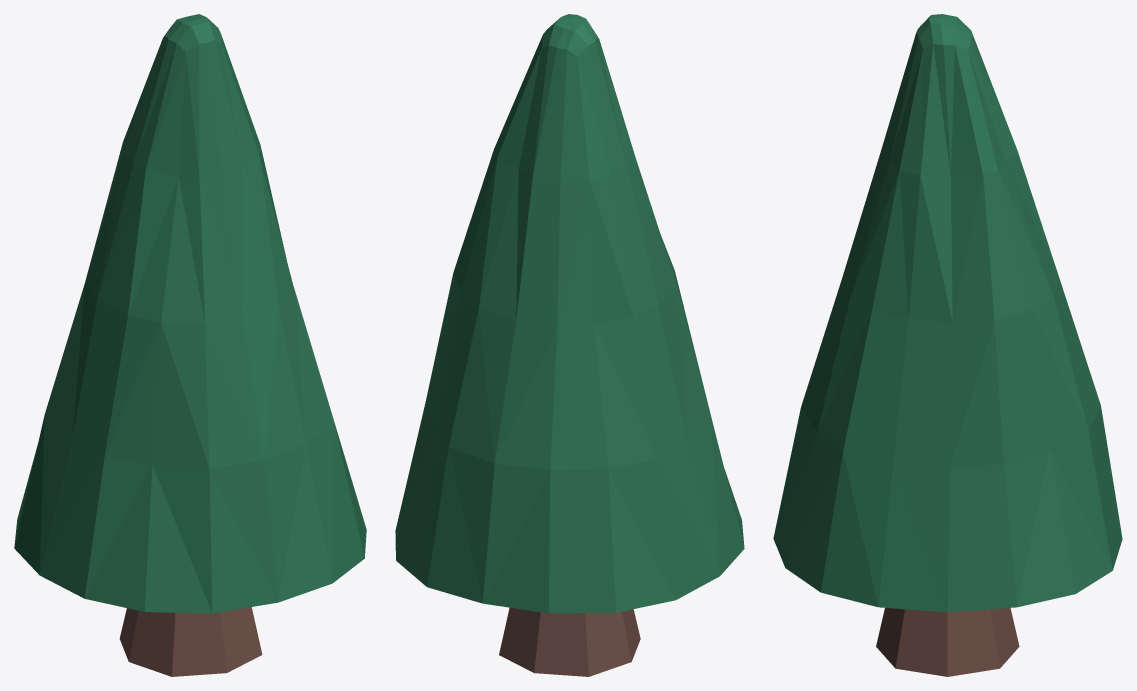
File: drzewo_10.fbx
The picture shows the model from 3 angles, left to right: view 1: azimuth 30°, elevation 25°; view 2: azimuth 150°, elevation 25°; view 3: azimuth 270°, elevation 25°; orthographic projection.
Parts seen in each view (by area): view 1: Cube.005; view 2: Cube.005; view 3: Cube.005.
Part boxes in pixels (box(x1,y1,x2,y2)): Cube.005: box(14, 14, 366, 676); Cube.005: box(395, 14, 744, 676); Cube.005: box(773, 14, 1122, 676).
Size of the model in its own units: 1321 by 2627 by 1323.
